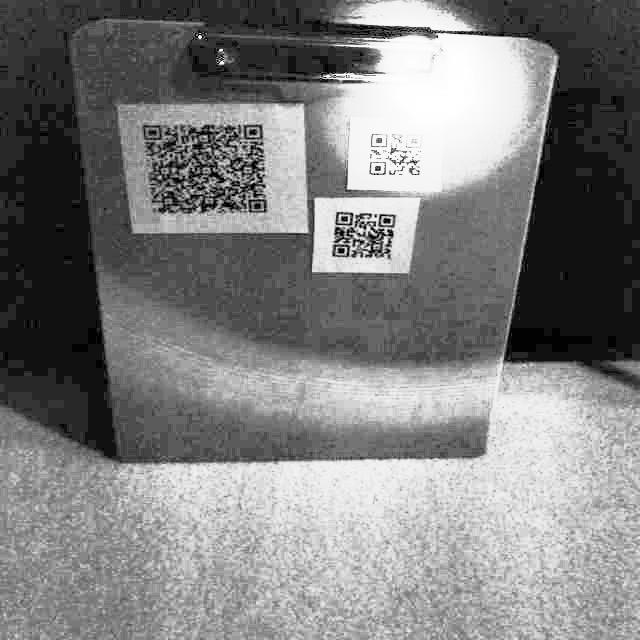qr_code: (134, 111, 277, 224), (318, 199, 409, 269), (358, 121, 436, 184)
